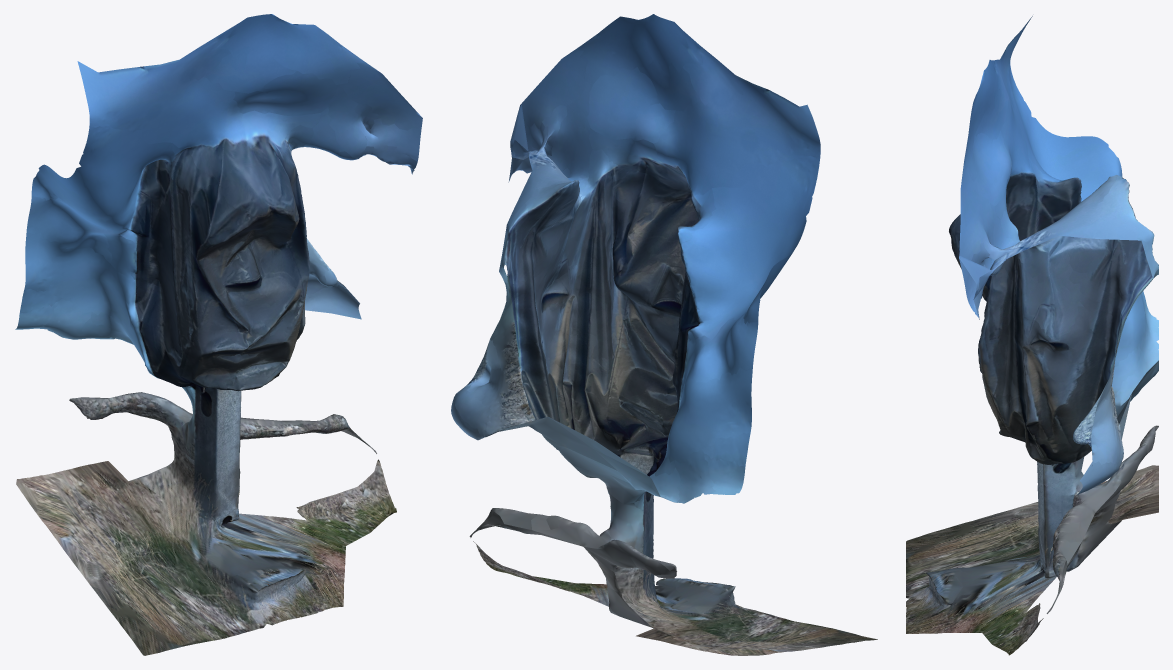
File: Gelato 3x.obj
The picture shows the model from 3 angles, left to right: view 1: azimuth 30°, elevation 25°; view 2: azimuth 150°, elevation 25°; view 3: azimuth 270°, elevation 25°; orthographic projection. The views are drawn at different scales.
Visible parts, largest first — view 1: Object; view 2: Object; view 3: Object.
Boxes of the visible parts, x1,y1,x2,y2 form: Object: (15, 14, 422, 655); Object: (451, 14, 877, 655); Object: (906, 16, 1158, 655).
Size of the model in its own units: 0.4226 by 0.7551 by 0.3132.
Materials: 1 (1 with a texture image).
